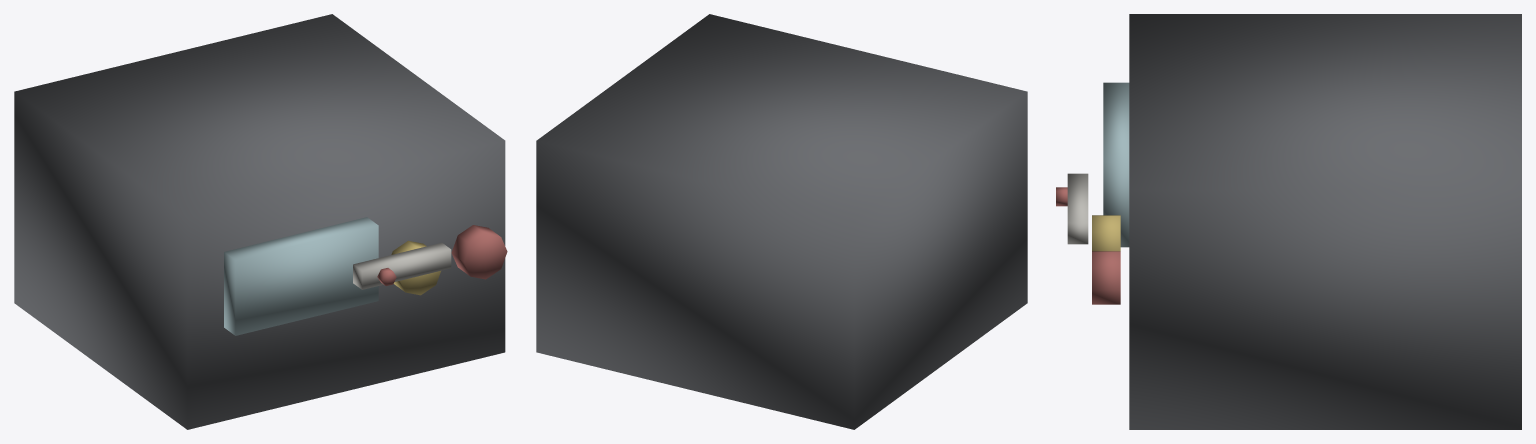
The model's file is bench_power_supply__deep.glb.
3 renders of one model, left to right at view 1: azimuth 30°, elevation 25°; view 2: azimuth 150°, elevation 25°; view 3: azimuth 270°, elevation 25°, orthographic. The views are drawn at different scales.
Parts seen in each view (by area): view 1: world; view 2: world; view 3: world.
Boxes of the visible parts, x1,y1,x2,y2 form: world: (14, 14, 507, 429); world: (536, 14, 1027, 429); world: (1056, 14, 1521, 429).
Size of the model in its own units: 0.44 by 0.28 by 0.4923.
